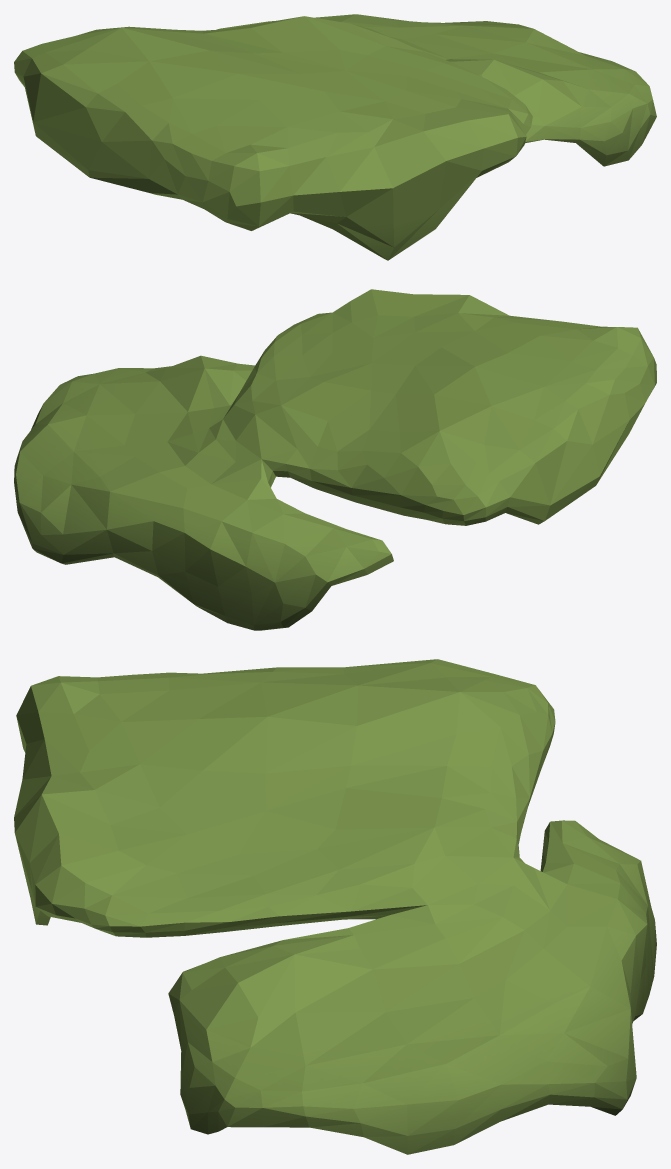
Rendered from Jungle_PlatformRock_Med_D_Grass.fbx.
3 renders of one model, top to bottom at view 1: azimuth 30°, elevation 25°; view 2: azimuth 150°, elevation 25°; view 3: azimuth 270°, elevation 25°, orthographic. The views are drawn at different scales.
Parts seen in each view (by area): view 1: Jungle_PlatformRock_Med_D_Grass; view 2: Jungle_PlatformRock_Med_D_Grass; view 3: Jungle_PlatformRock_Med_D_Grass.
Boxes of the visible parts, x1=… form: Jungle_PlatformRock_Med_D_Grass: x1=14, y1=14, x2=656, y2=260; Jungle_PlatformRock_Med_D_Grass: x1=14, y1=289, x2=656, y2=630; Jungle_PlatformRock_Med_D_Grass: x1=14, y1=659, x2=656, y2=1154.
Bounding box in the file's own units: 10.71 × 3.35 × 8.52.
1 material, 1 textured.
